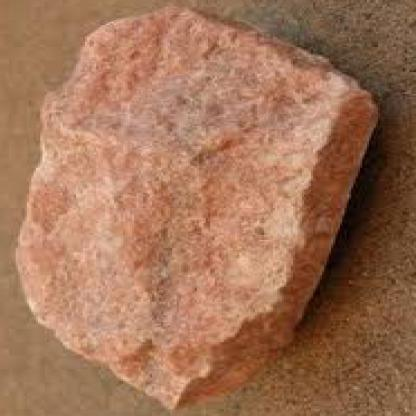Metamorphic_Marble: (13, 0, 387, 408)
